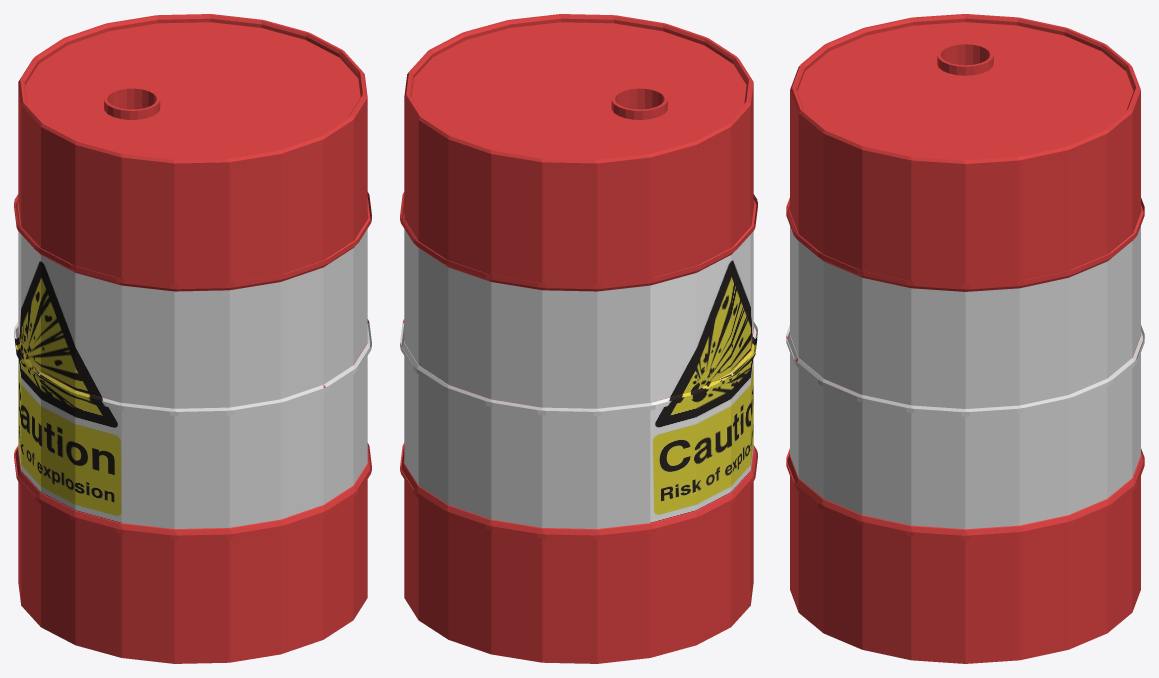
Rendered from explosiveBarrel.fbx.
3 views of the same model, side by side, from view 1: azimuth 30°, elevation 25°; view 2: azimuth 150°, elevation 25°; view 3: azimuth 270°, elevation 25° (orthographic).
Parts seen in each view (by area): view 1: Cylinder; view 2: Cylinder; view 3: Cylinder.
Boxes of the visible parts, x1,y1,x2,y2 form: Cylinder: (14, 14, 371, 663); Cylinder: (400, 14, 757, 663); Cylinder: (786, 14, 1144, 663).
Size of the model in its own units: 204 by 318 by 204.
3 materials, 1 textured.
